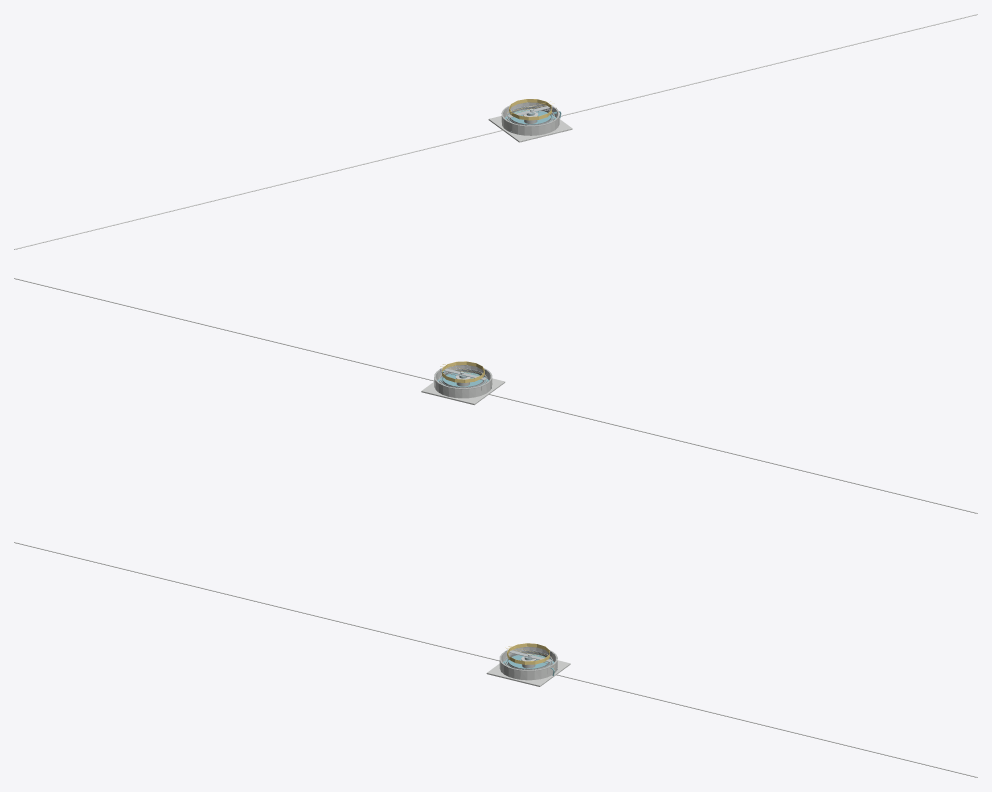
3 renders of one model, top to bottom at view 1: azimuth 30°, elevation 25°; view 2: azimuth 150°, elevation 25°; view 3: azimuth 330°, elevation 25°, orthographic.
Parts seen in each view (by area): view 1: render-batch-7, render-batch-6; view 2: render-batch-7, render-batch-6; view 3: render-batch-7, render-batch-6.
Boxes of the visible parts, bbox=[...] form: render-batch-7: bbox=[14, 14, 977, 249]; render-batch-6: bbox=[488, 103, 572, 142]; render-batch-7: bbox=[14, 278, 977, 513]; render-batch-6: bbox=[421, 365, 505, 405]; render-batch-7: bbox=[14, 542, 977, 777]; render-batch-6: bbox=[486, 647, 570, 686].
Size of the model in its own units: 286 by 4.88 by 15.8.
